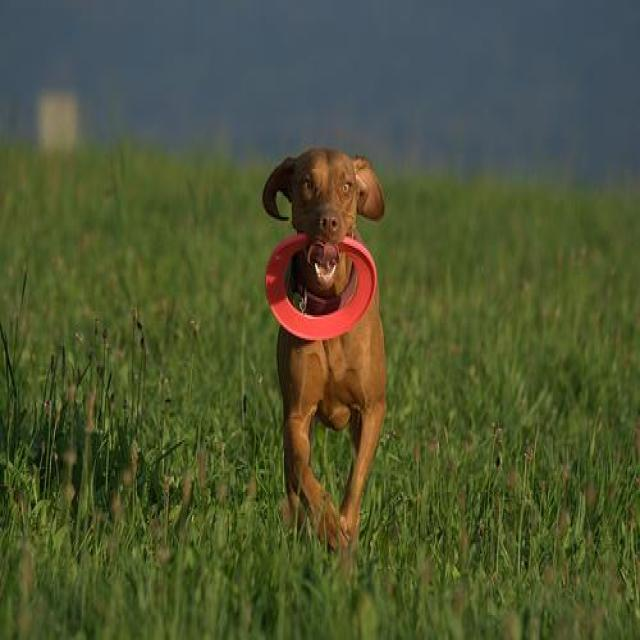vizsla: (261, 148, 392, 555)
